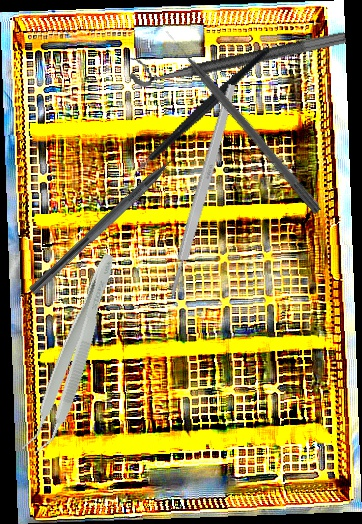Chopper: (27, 137, 202, 307), (100, 46, 299, 190)
Fixation Ring: (125, 12, 348, 91)
Pusher: (162, 25, 324, 216)
Scalpel Handle: (165, 82, 239, 297)
Tissue Forceps: (19, 247, 123, 461)
